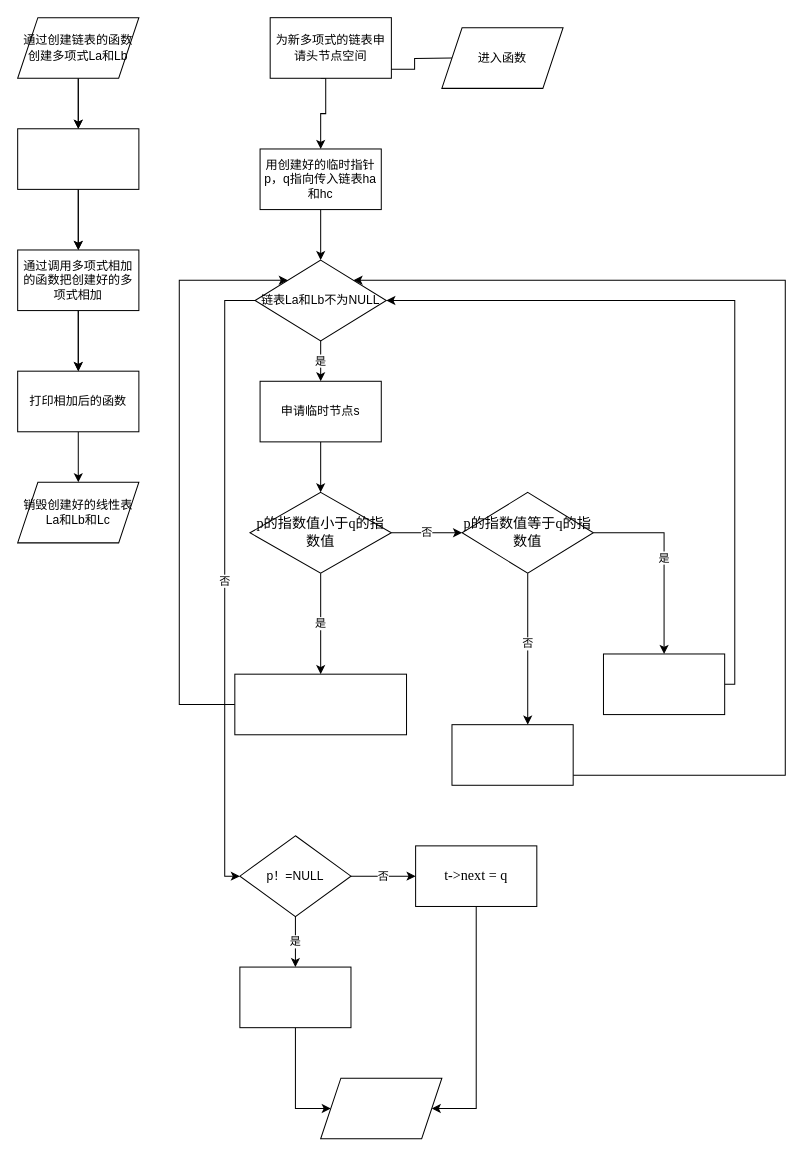
This 811x1156 diagram has some shape labels left out. Each missing label, with the box of its shape:
t->next = p: (239, 966, 351, 1028)
如果p和q的指数不相等则将p的项数的指数和系数存储新的多项式中: (234, 673, 407, 735)
将p和q的项数相加，然后把新的项数和相等的指数存储到新节点中: (602, 653, 725, 715)
将节点q的数据储存在新节点中并插入: (451, 724, 573, 785)
打印多项式A和B: (17, 128, 139, 189)
退出函数: (320, 1077, 442, 1139)
